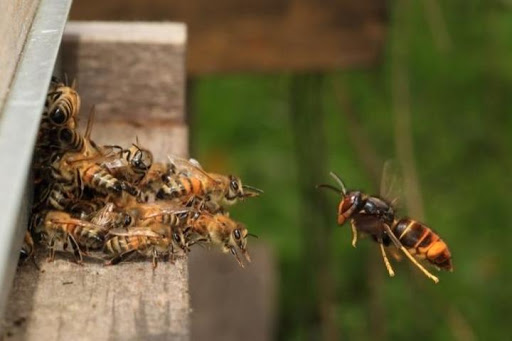bee: (37, 131, 124, 201), (32, 207, 108, 261), (188, 205, 255, 260), (164, 168, 255, 205), (122, 147, 165, 224), (107, 228, 181, 270), (51, 81, 86, 124)
hornet: (320, 171, 462, 283)
